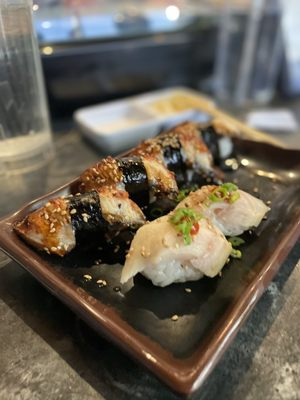pizza: (0, 0, 57, 221)
